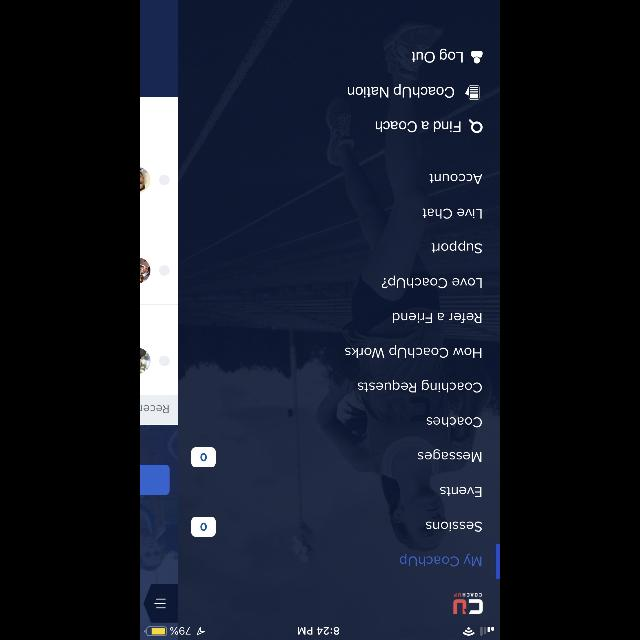icon: (468, 119, 482, 133), (471, 50, 483, 64)
image: (453, 592, 483, 614), (464, 86, 480, 100)
panel: (178, 1, 500, 640)
text: (345, 344, 481, 358), (358, 380, 482, 392), (348, 84, 454, 98), (381, 276, 481, 288), (392, 312, 482, 324), (399, 554, 481, 566), (376, 121, 460, 132), (412, 48, 462, 64), (417, 450, 481, 462), (431, 240, 482, 253), (426, 417, 482, 428), (422, 208, 482, 218), (430, 173, 482, 184), (426, 522, 482, 532), (441, 487, 482, 498), (200, 523, 207, 531), (200, 453, 206, 461)
uppertaskbar: (140, 625, 500, 639)
